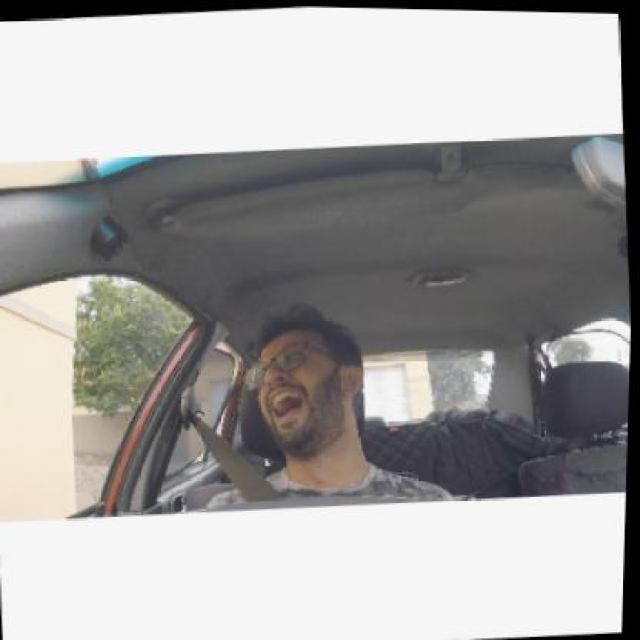drowsy: (246, 306, 363, 449)
